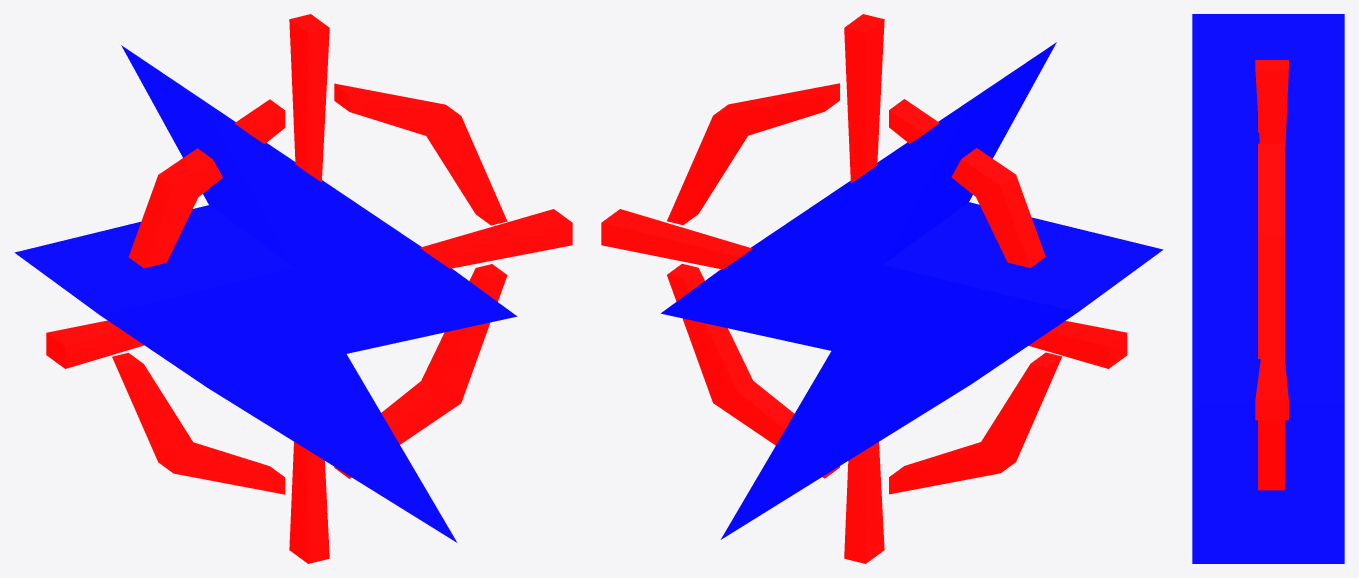
File: GGJ_AccuracyUP.fbx
3 renders of one model, left to right at view 1: azimuth 30°, elevation 25°; view 2: azimuth 150°, elevation 25°; view 3: azimuth 270°, elevation 25°, orthographic. The views are drawn at different scales.
Parts seen in each view (by area): view 1: Cube, Circle.002; view 2: Cube, Circle.002; view 3: Cube, Circle.002.
Part boxes in pixels (x1,y1,x2,y2): Cube: (14,45,517,542); Circle.002: (46,14,572,563); Cube: (661,42,1163,539); Circle.002: (601,14,1127,563); Cube: (1192,14,1344,563); Circle.002: (1255,60,1288,490).
Bounding box in the file's own units: 194 × 193 × 56.51.
